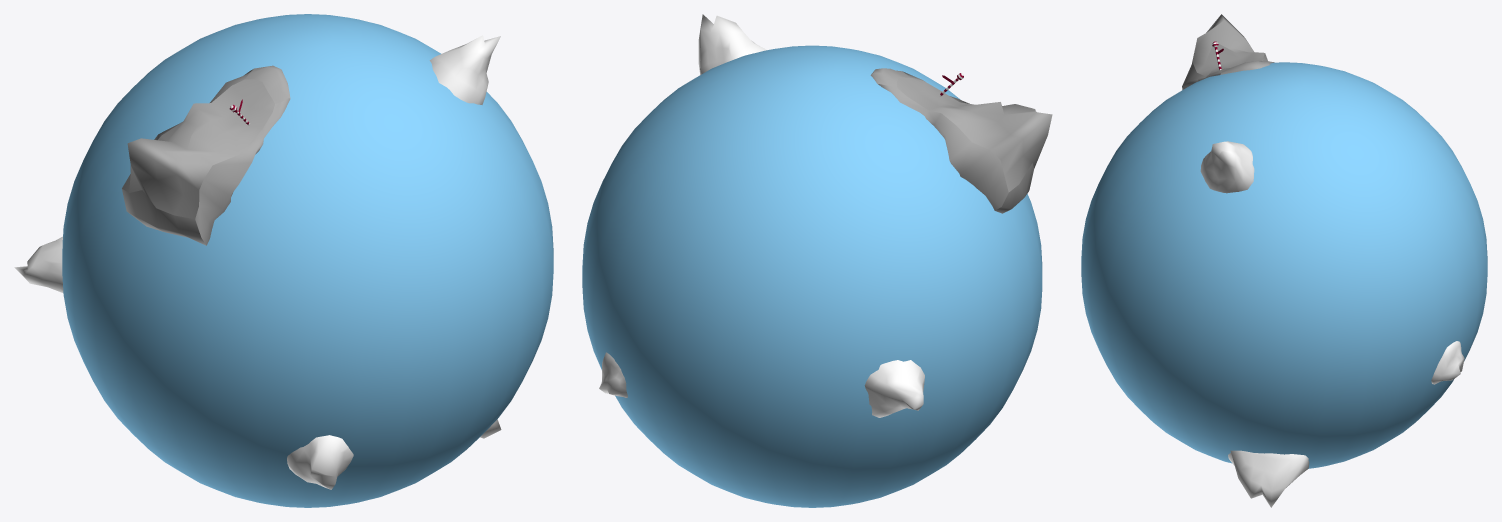
File: world.fbx
3 views of the same model, side by side, from view 1: azimuth 30°, elevation 25°; view 2: azimuth 150°, elevation 25°; view 3: azimuth 270°, elevation 25° (orthographic). The views are drawn at different scales.
Parts seen in each view (by area): view 1: sphereground_geo, mountain_geo, glaicer_geo (×3); view 2: sphereground_geo, mountain_geo, glaicer_geo (×3); view 3: sphereground_geo, glaicer_geo (×3), mountain_geo.
Part boxes in pixels (bbox=[...]): sphereground_geo: bbox=[62, 14, 553, 507]; mountain_geo: bbox=[122, 65, 290, 245]; glaicer_geo (×3): bbox=[14, 35, 500, 489]; sphereground_geo: bbox=[582, 45, 1042, 507]; mountain_geo: bbox=[870, 68, 1052, 213]; glaicer_geo (×3): bbox=[599, 14, 924, 417]; sphereground_geo: bbox=[1081, 62, 1487, 468]; glaicer_geo (×3): bbox=[1200, 141, 1464, 507]; mountain_geo: bbox=[1182, 14, 1274, 89].
Size of the model in its own units: 181 by 179 by 178.
